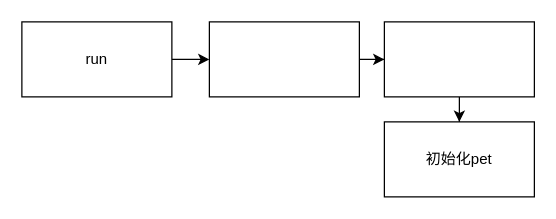
Image size: 556x219. Some labels were removed from this diagram. Each missing label, with the centre of its shape:
"控制窗口" belongs at point 283,59.
"系统拖盘" belongs at point 458,59.
